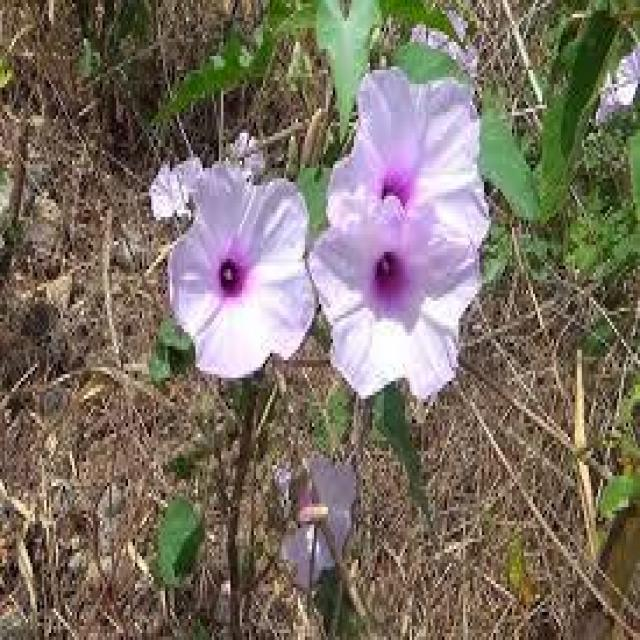organic waste: (329, 61, 497, 418), (168, 163, 318, 376)
